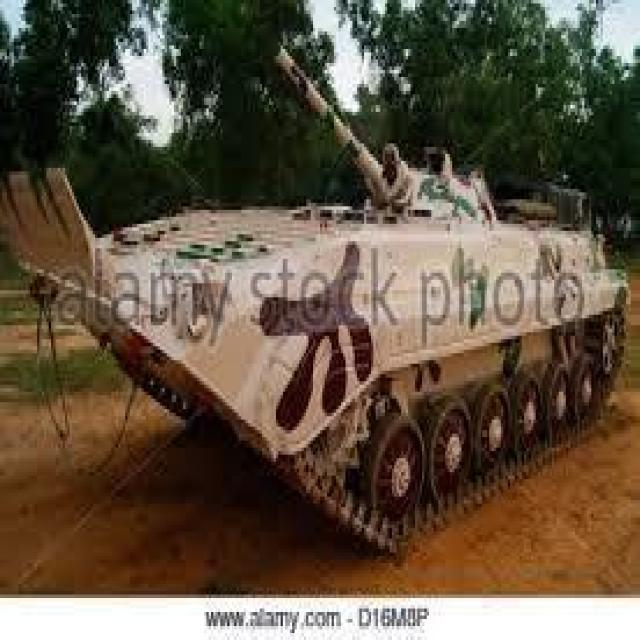Tanks: (6, 145, 574, 547)
